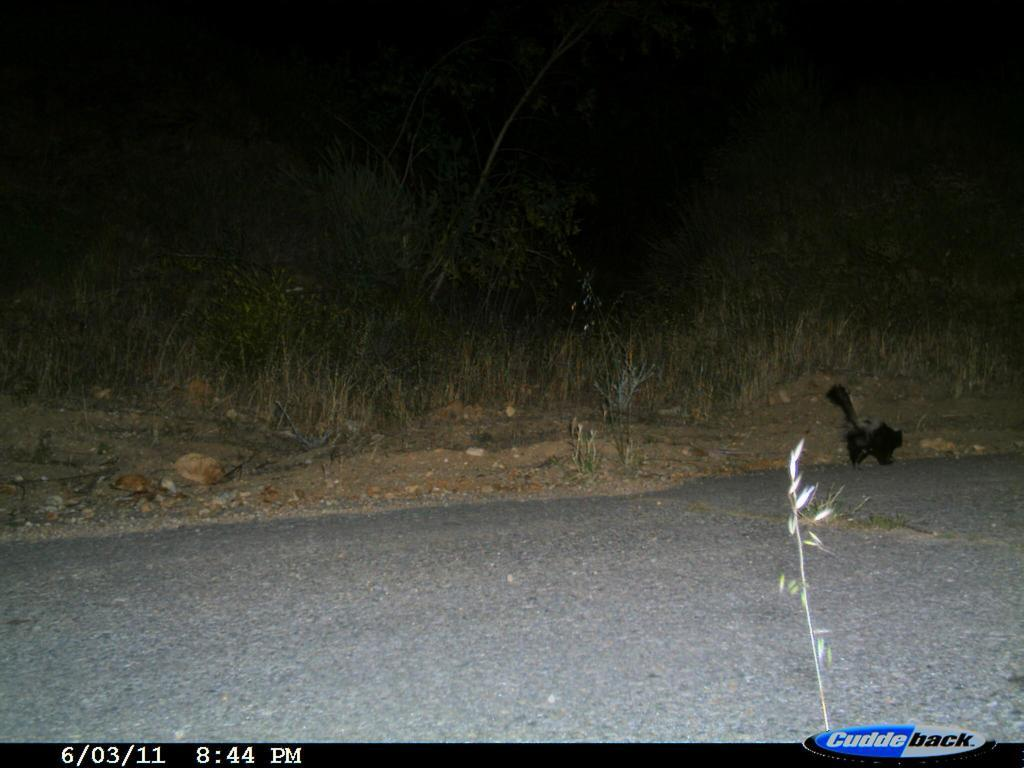skunk: (817, 373, 932, 489)
